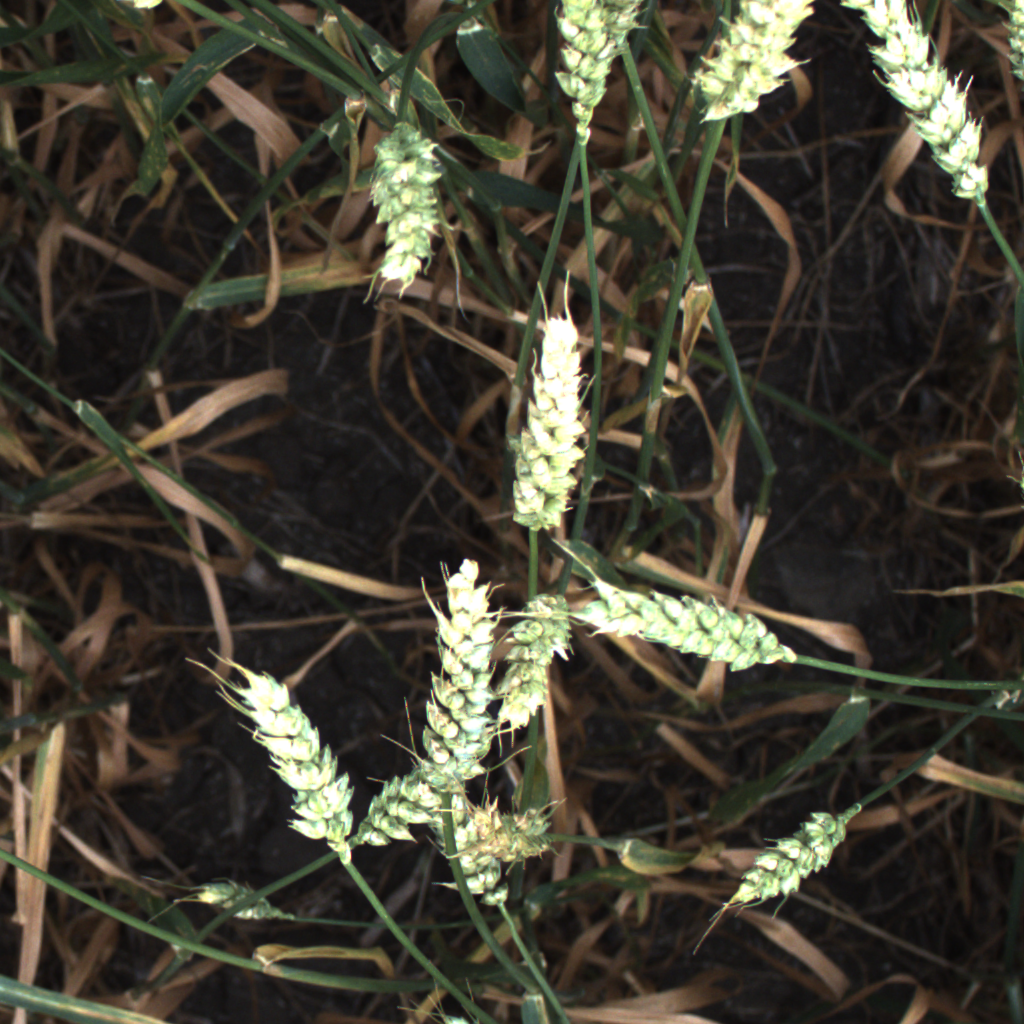wheat_head: (833, 0, 998, 219), (569, 564, 809, 675), (226, 667, 348, 876), (497, 299, 594, 537), (410, 550, 507, 787), (352, 114, 451, 311), (680, 0, 820, 135), (354, 723, 494, 857), (724, 798, 858, 918), (542, 0, 658, 133), (494, 577, 580, 740), (431, 766, 517, 909), (467, 797, 562, 868), (172, 875, 301, 925), (994, 0, 1024, 99)
